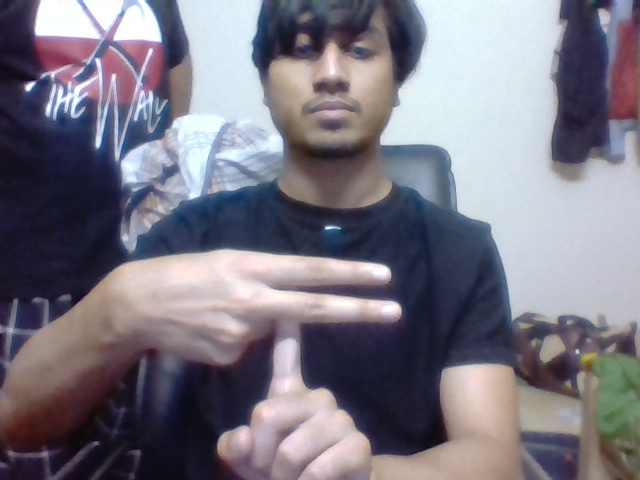F: (267, 250, 405, 380)
